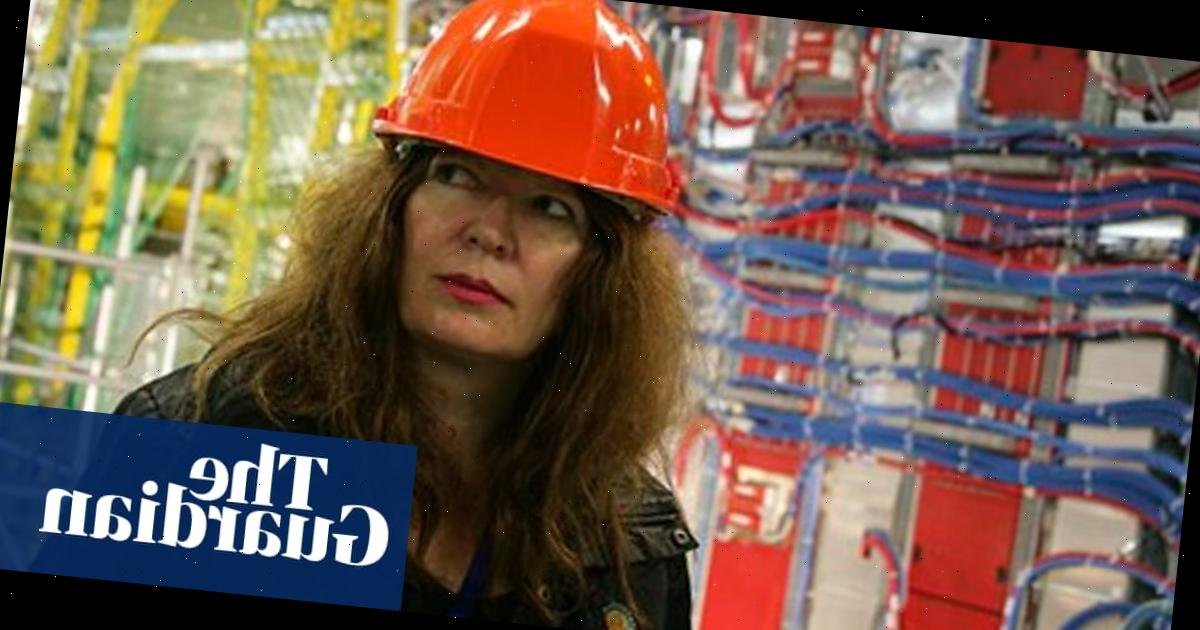helmet: (359, 0, 714, 220)
